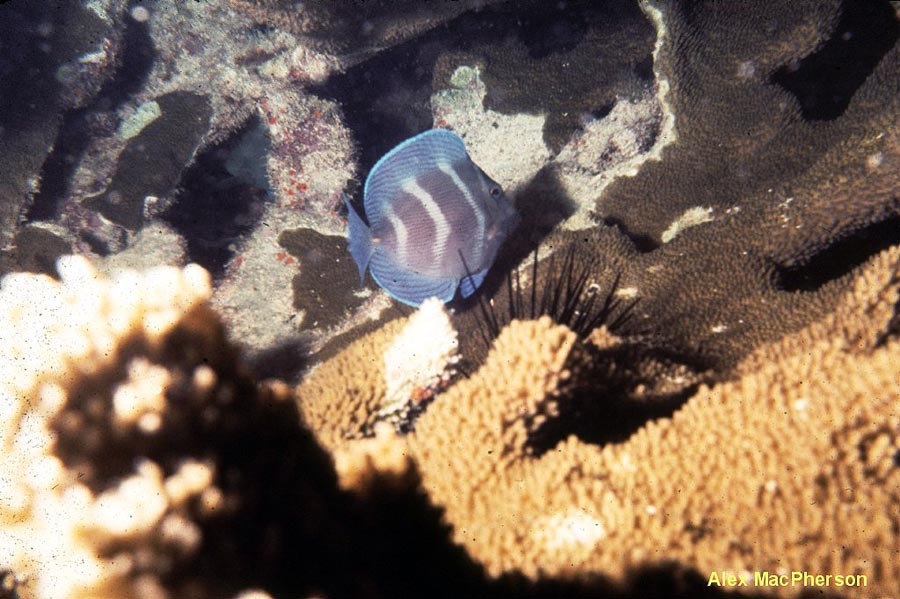Acanthurus_coeruleus: (339, 130, 524, 314)
